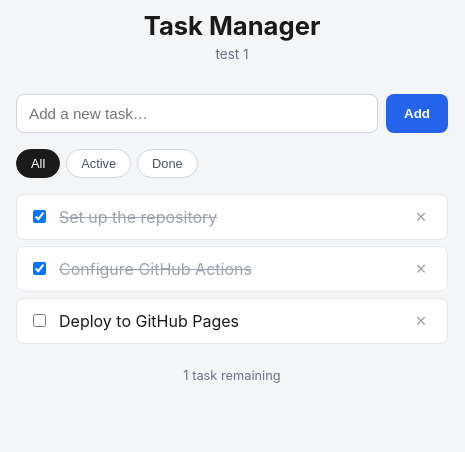
Scenario: adds a new task when the form is submitted
Type "Write documentation" into the field with placeholder "Add a new task…" at (197, 113), box [16,94,378,133]
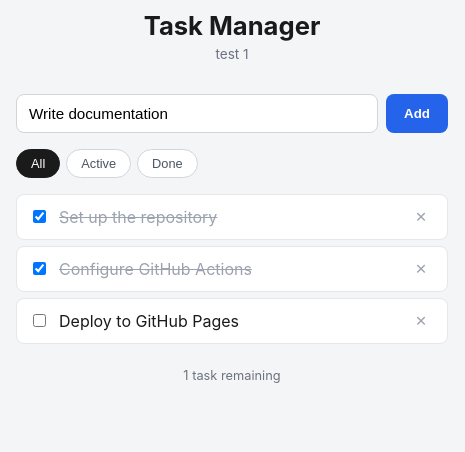
Click the button "Add" at (417, 113), box [386,94,448,133]
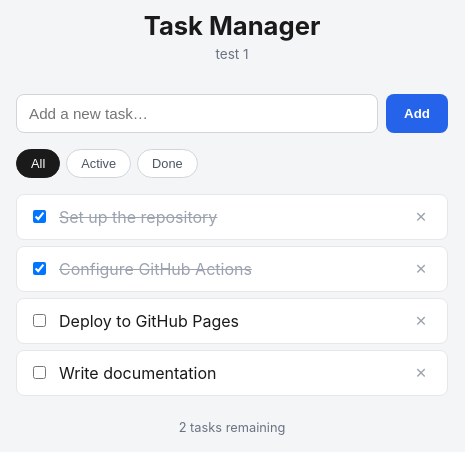
Expected: the text "Write documentation" is shown, [59,363,216,383]
